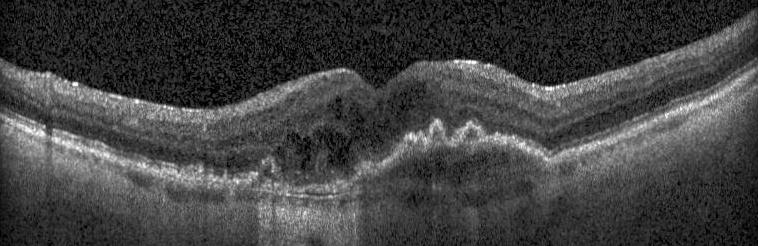intraretinal_cyst: (348, 103, 385, 149), (314, 125, 351, 165), (390, 84, 425, 110), (290, 132, 310, 155), (327, 96, 342, 119), (301, 158, 307, 170)
subretinal_hyperreflective_material: (304, 118, 550, 195), (249, 157, 285, 183)
